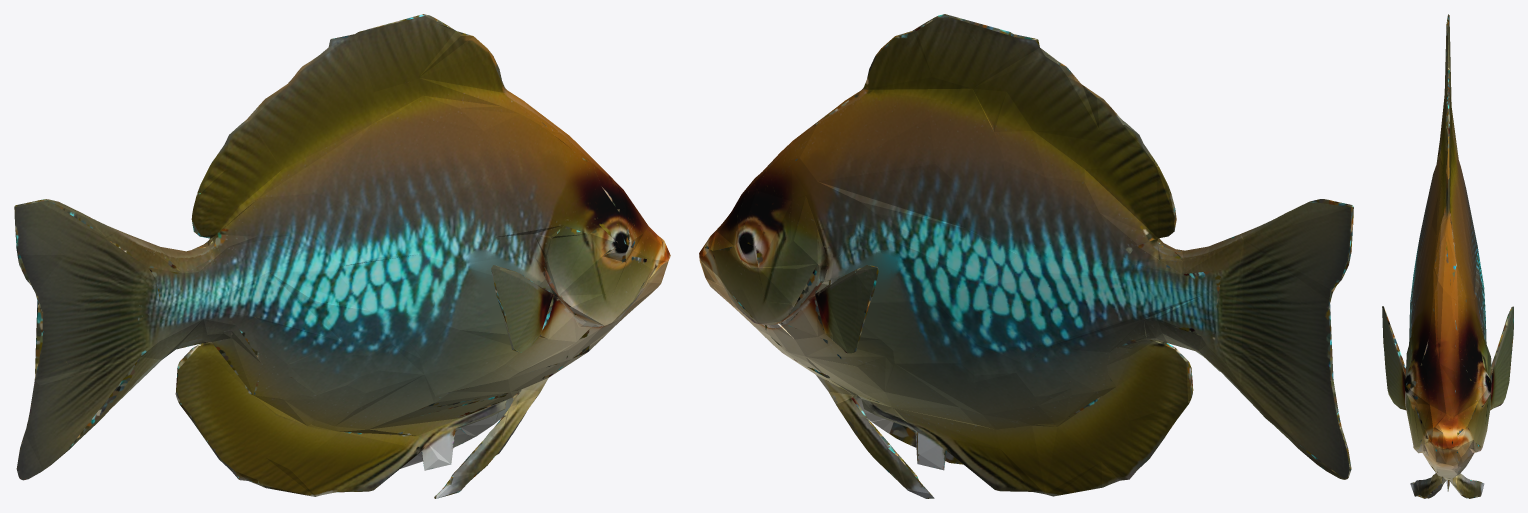
File: fish_0028_smpl23_resized.glb
3 renders of one model, left to right at view 1: azimuth 30°, elevation 25°; view 2: azimuth 150°, elevation 25°; view 3: azimuth 270°, elevation 25°, orthographic. The views are drawn at different scales.
Visible parts, largest first — view 1: world; view 2: world; view 3: world.
Part boxes in pixels (<box>): world: <box>14,14,670,498</box>; world: <box>699,14,1353,498</box>; world: <box>1382,14,1513,498</box>.
Size of the model in its own units: 1.99 by 1.37 by 0.4197.
Materials: 1 (1 with a texture image).
